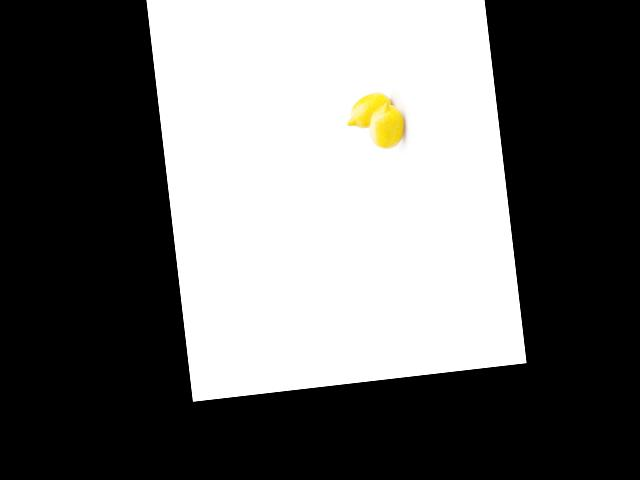lemon: (365, 96, 403, 153)
